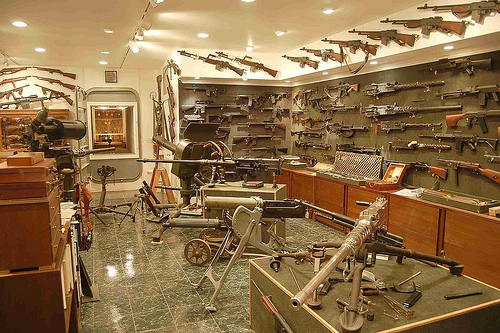rifle: (290, 194, 401, 311), (138, 148, 305, 180), (355, 98, 459, 117), (368, 15, 472, 34), (180, 46, 244, 73), (359, 74, 440, 92), (385, 133, 451, 155), (322, 34, 376, 54), (232, 116, 286, 135), (273, 48, 320, 69), (173, 98, 236, 112)
